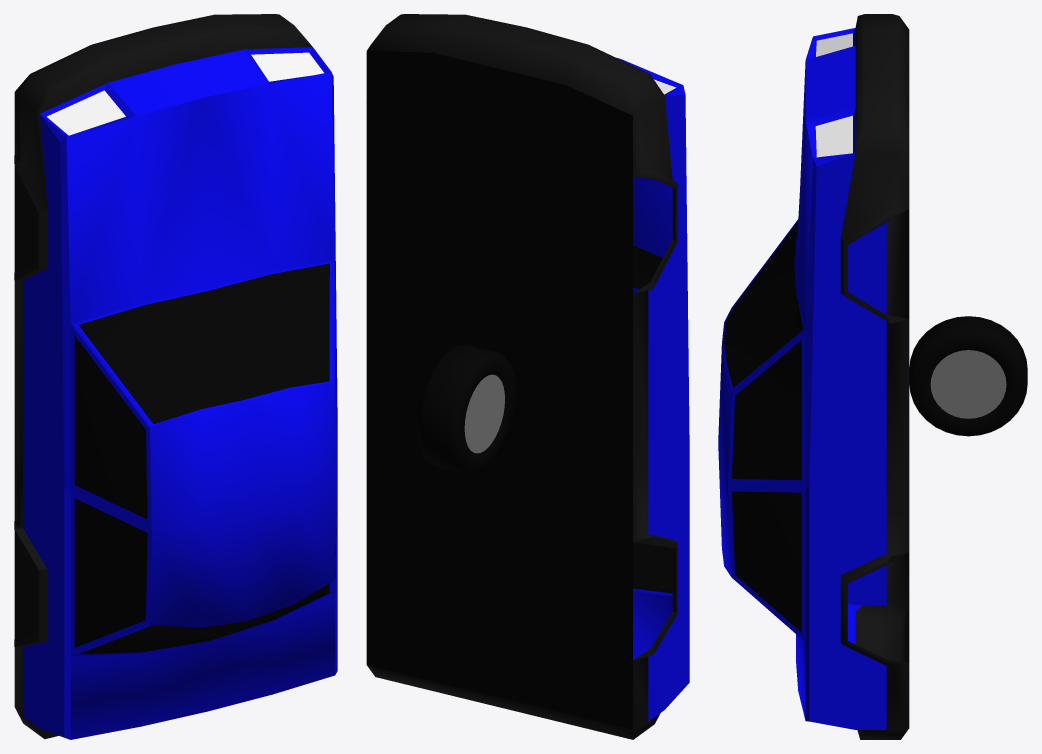
The model's file is car.obj.
The picture shows the model from 3 angles, left to right: view 1: azimuth 30°, elevation 25°; view 2: azimuth 150°, elevation 25°; view 3: azimuth 270°, elevation 25°; orthographic projection. The views are drawn at different scales.
Parts seen in each view (by area): view 1: car; view 2: car, whel_bl, wheel_fl, wheel_fr; view 3: car, wheel_fl, wheel_fr.
Boxes of the visible parts, x1=… form: car: x1=14, y1=14, x2=337, y2=739; car: x1=366, y1=14, x2=689, y2=739; whel_bl: x1=450, y1=356, x2=516, y2=474; wheel_fl: x1=417, y1=344, x2=473, y2=472; wheel_fr: x1=447, y1=344, x2=506, y2=455; car: x1=718, y1=14, x2=909, y2=739; wheel_fl: x1=909, y1=317, x2=1027, y2=436; wheel_fr: x1=910, y1=316, x2=1017, y2=371.
Bounding box in the file's own units: 2.1 × 4.66 × 2.09.
